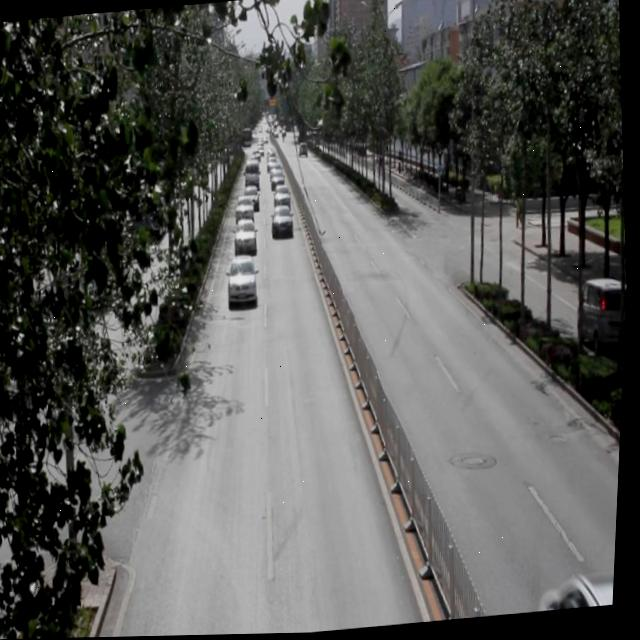car: (541, 572, 620, 614), (227, 252, 261, 306), (234, 217, 260, 259), (272, 205, 295, 240), (237, 194, 259, 225), (271, 182, 292, 212), (242, 183, 261, 212)
truck: (576, 275, 630, 362)
